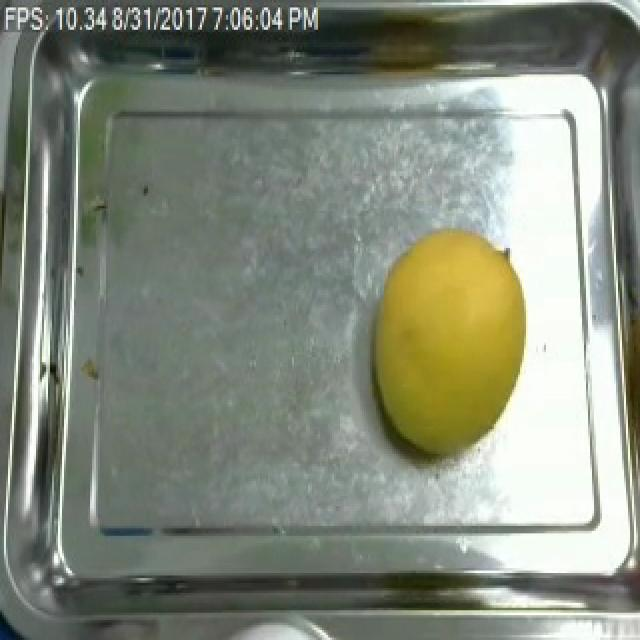fruit: (360, 221, 538, 471)
